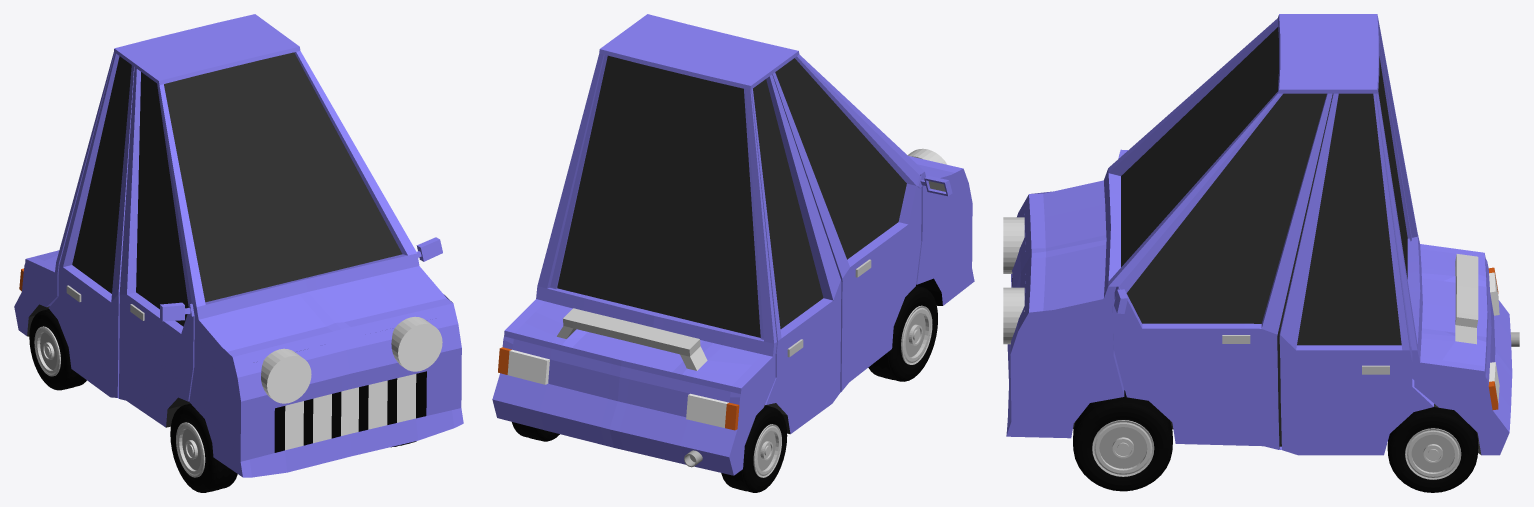
3 renders of one model, left to right at view 1: azimuth 30°, elevation 25°; view 2: azimuth 150°, elevation 25°; view 3: azimuth 270°, elevation 25°, orthographic. The views are drawn at different scales.
Visible parts, largest first — view 1: BODY, WHEEL.001, WHEEL.004; view 2: BODY, WHEEL.001, WHEEL.004; view 3: BODY, WHEEL.003, WHEEL.002.
Part boxes in pixels (box(x1,y1,x2,y2)): BODY: box(14, 14, 463, 477); WHEEL.001: box(170, 403, 237, 492); WHEEL.004: box(29, 309, 86, 390); BODY: box(492, 14, 974, 475); WHEEL.001: box(868, 285, 937, 381); WHEEL.004: box(721, 405, 787, 492); BODY: box(1003, 14, 1512, 455); WHEEL.003: box(1073, 397, 1172, 491); WHEEL.002: box(1387, 407, 1478, 492).
Bounding box in the file's own units: 154 × 183 × 223.
